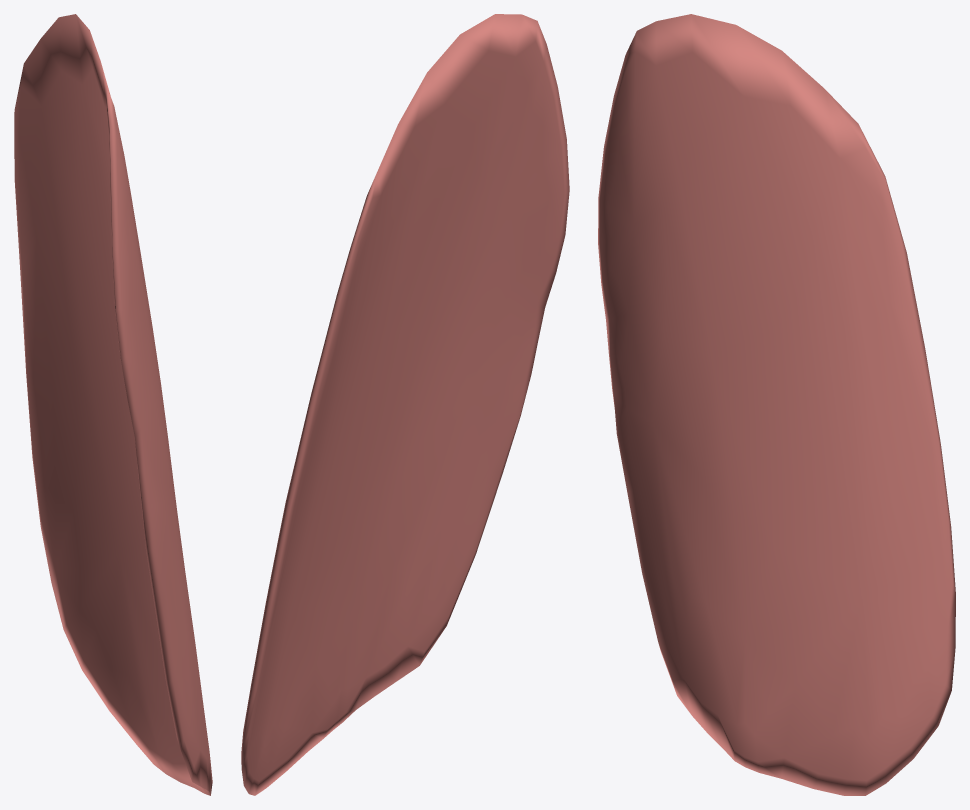
3 views of the same model, side by side, from view 1: azimuth 30°, elevation 25°; view 2: azimuth 150°, elevation 25°; view 3: azimuth 270°, elevation 25° (orthographic). The views are drawn at different scales.
Visible parts, largest first — view 1: ZA_0eb25b88d5b2205f; view 2: ZA_0eb25b88d5b2205f; view 3: ZA_0eb25b88d5b2205f.
Boxes of the visible parts, x1=… form: ZA_0eb25b88d5b2205f: x1=14, y1=14, x2=212, y2=795; ZA_0eb25b88d5b2205f: x1=241, y1=14, x2=569, y2=795; ZA_0eb25b88d5b2205f: x1=598, y1=14, x2=955, y2=795.
Size of the model in its own units: 0.0101 by 0.0413 by 0.0188.
